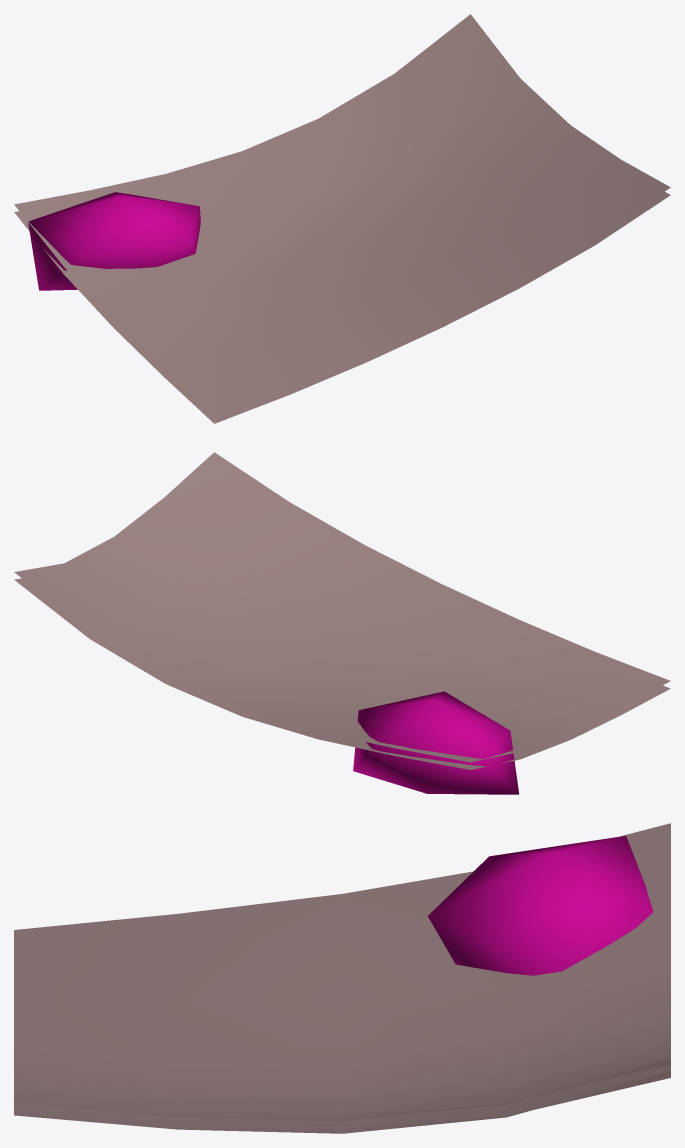
File: map_leaf.glb
The picture shows the model from 3 angles, top to bottom: view 1: azimuth 30°, elevation 25°; view 2: azimuth 150°, elevation 25°; view 3: azimuth 270°, elevation 25°; orthographic projection. The views are drawn at different scales.
Visible parts, largest first — view 1: Leaf, Pebble; view 2: Leaf, Pebble; view 3: Leaf, Pebble.
Part boxes in pixels (x1,y1,x2,y2): Leaf: (14, 14, 670, 423); Pebble: (28, 192, 200, 290); Leaf: (14, 452, 670, 769); Pebble: (353, 691, 519, 794); Leaf: (14, 823, 670, 1133); Pebble: (428, 836, 653, 975).
Size of the model in its own units: 0.5129 by 0.1602 by 0.38.
